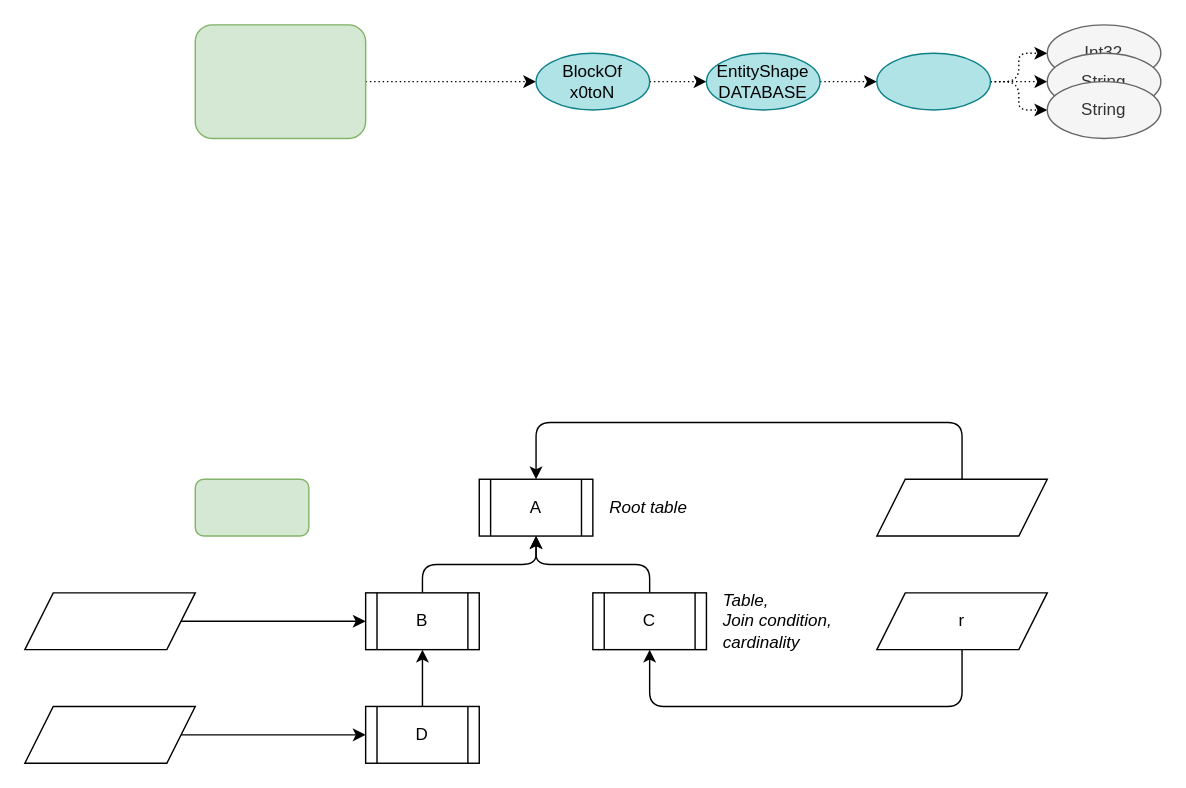
Image size: 1186x788. Some labels were removed from this diagram. Here are the shapes that lost their labels. From the top down, the box of each, then its label:
(194, 23, 366, 138): load_query( "SELECT t1.col1 ... FROM t1 LEFT JOIN ...")
(875, 52, 990, 110): TupleOf
(194, 478, 309, 536): input
(875, 478, 1047, 536): p, q
(23, 705, 195, 763): s, t
